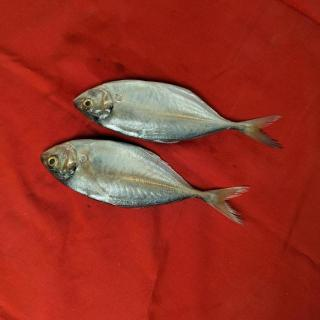Ikan: (32, 73, 291, 236)
